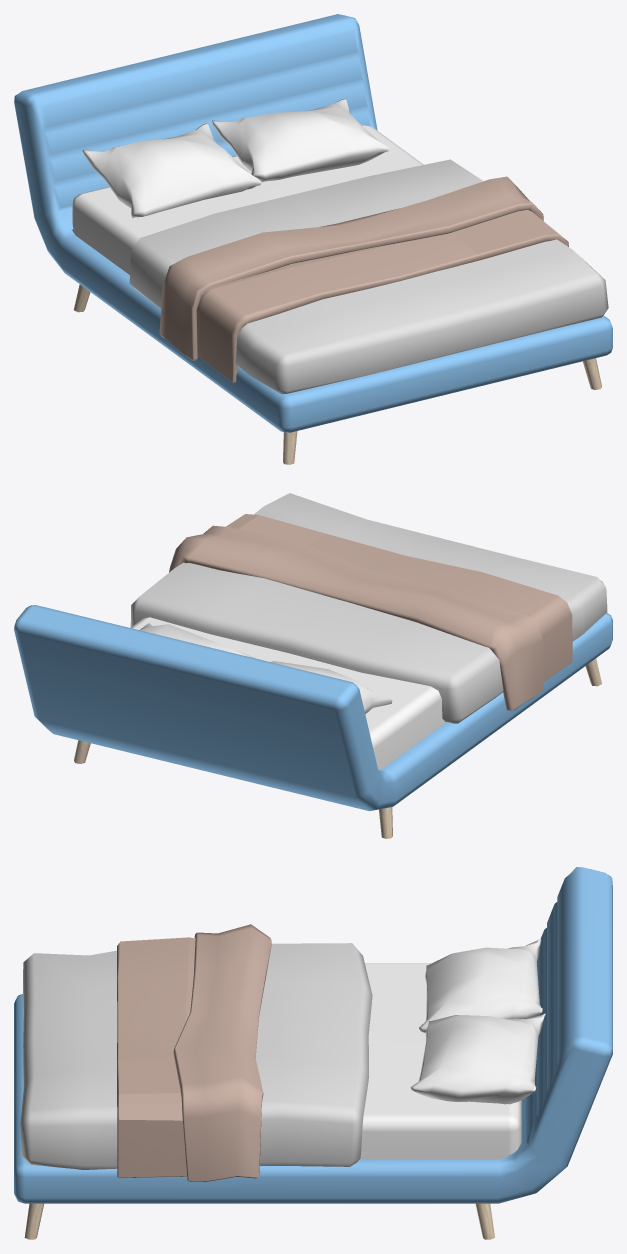
The model's file is bed_005.fbx.
3 views of the same model, one above another, from view 1: azimuth 30°, elevation 25°; view 2: azimuth 150°, elevation 25°; view 3: azimuth 270°, elevation 25° (orthographic). The views are drawn at different scales.
Visible parts, largest first — view 1: bed_005; view 2: bed_005; view 3: bed_005.
Part boxes in pixels (x1,y1,x2,y2): bed_005: (14,14,612,464); bed_005: (14,493,612,838); bed_005: (14,867,612,1239).
Bounding box in the file's own units: 230 × 302 × 113.
